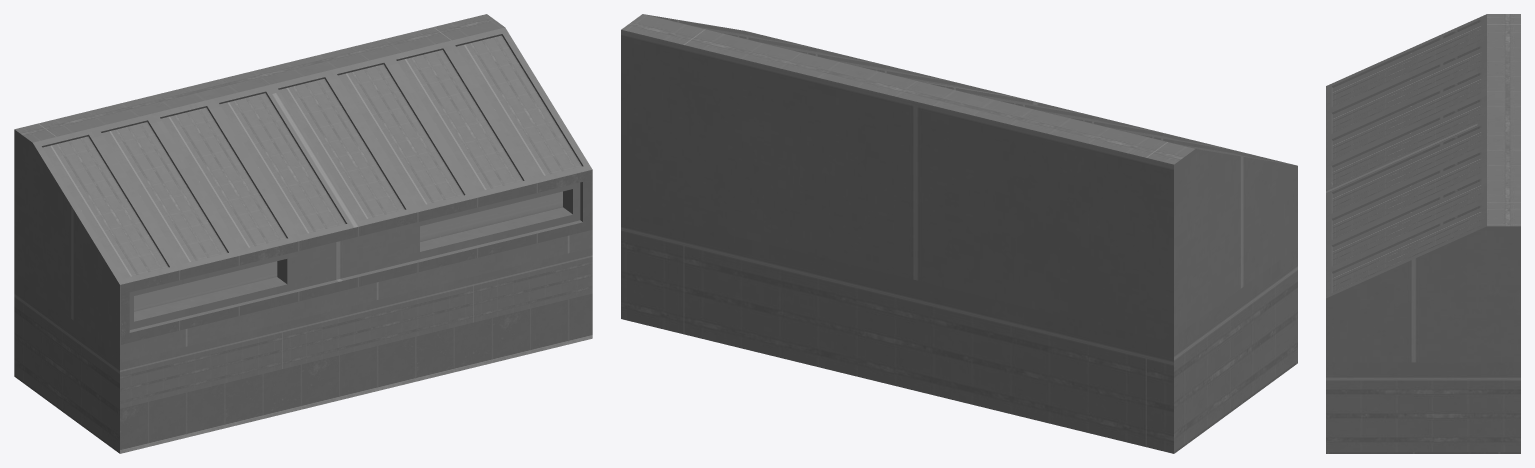
The model's file is SM_module_04.glb.
The picture shows the model from 3 angles, left to right: view 1: azimuth 30°, elevation 25°; view 2: azimuth 150°, elevation 25°; view 3: azimuth 270°, elevation 25°; orthographic projection. The views are drawn at different scales.
Visible parts, largest first — view 1: SM_module_04; view 2: SM_module_04; view 3: SM_module_04.
Boxes of the visible parts, x1,y1,x2,y2 form: SM_module_04: [14, 14, 592, 453]; SM_module_04: [621, 14, 1297, 453]; SM_module_04: [1326, 14, 1520, 453].
Size of the model in its own units: 8 by 4 by 3.1.
1 material, 1 textured.
